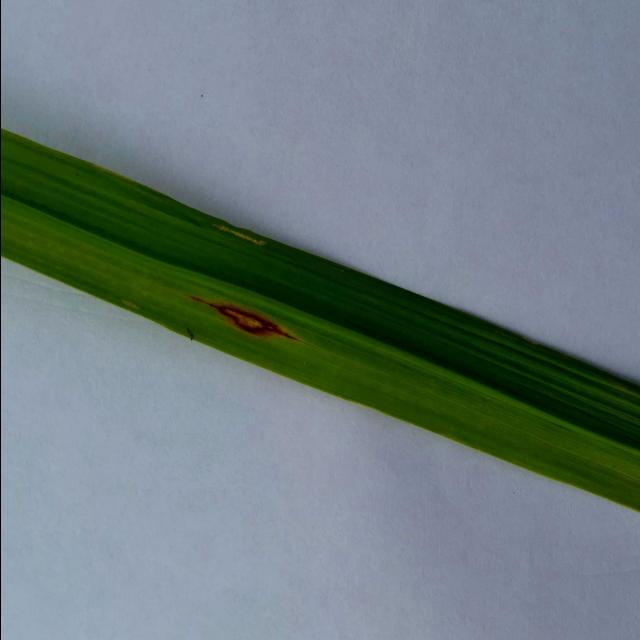Leaf_Blast: (179, 284, 290, 352)
